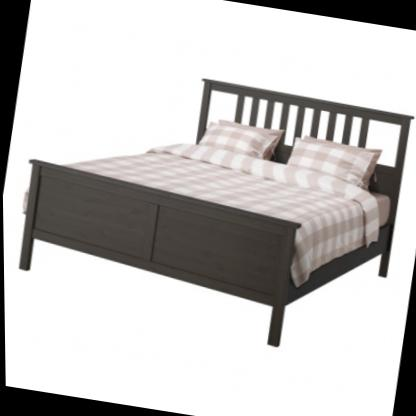Bed: (1, 49, 416, 367)
